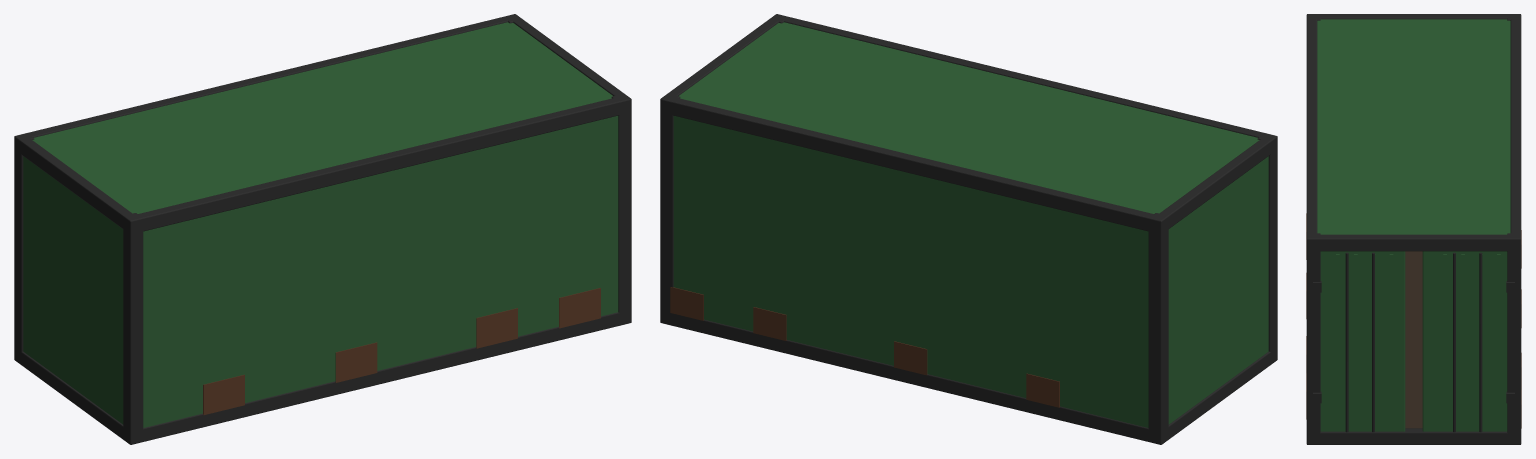
File: container_green.glb
3 renders of one model, left to right at view 1: azimuth 30°, elevation 25°; view 2: azimuth 150°, elevation 25°; view 3: azimuth 270°, elevation 25°, orthographic. The views are drawn at different scales.
Visible parts, largest first — view 1: Cube.119; view 2: Cube.119; view 3: Cube.119.
Boxes of the visible parts, x1=… form: Cube.119: x1=14, y1=14, x2=631, y2=444; Cube.119: x1=660, y1=14, x2=1277, y2=444; Cube.119: x1=1306, y1=14, x2=1521, y2=444.
Size of the model in its own units: 6.09 by 2.59 by 2.45.
